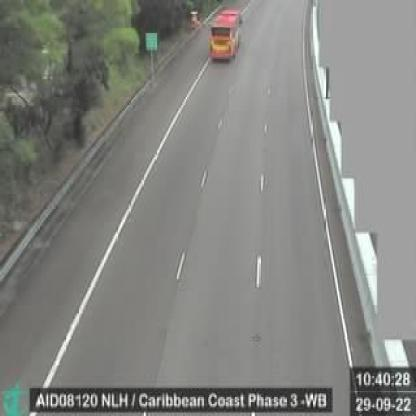Bus: (206, 4, 244, 71)
